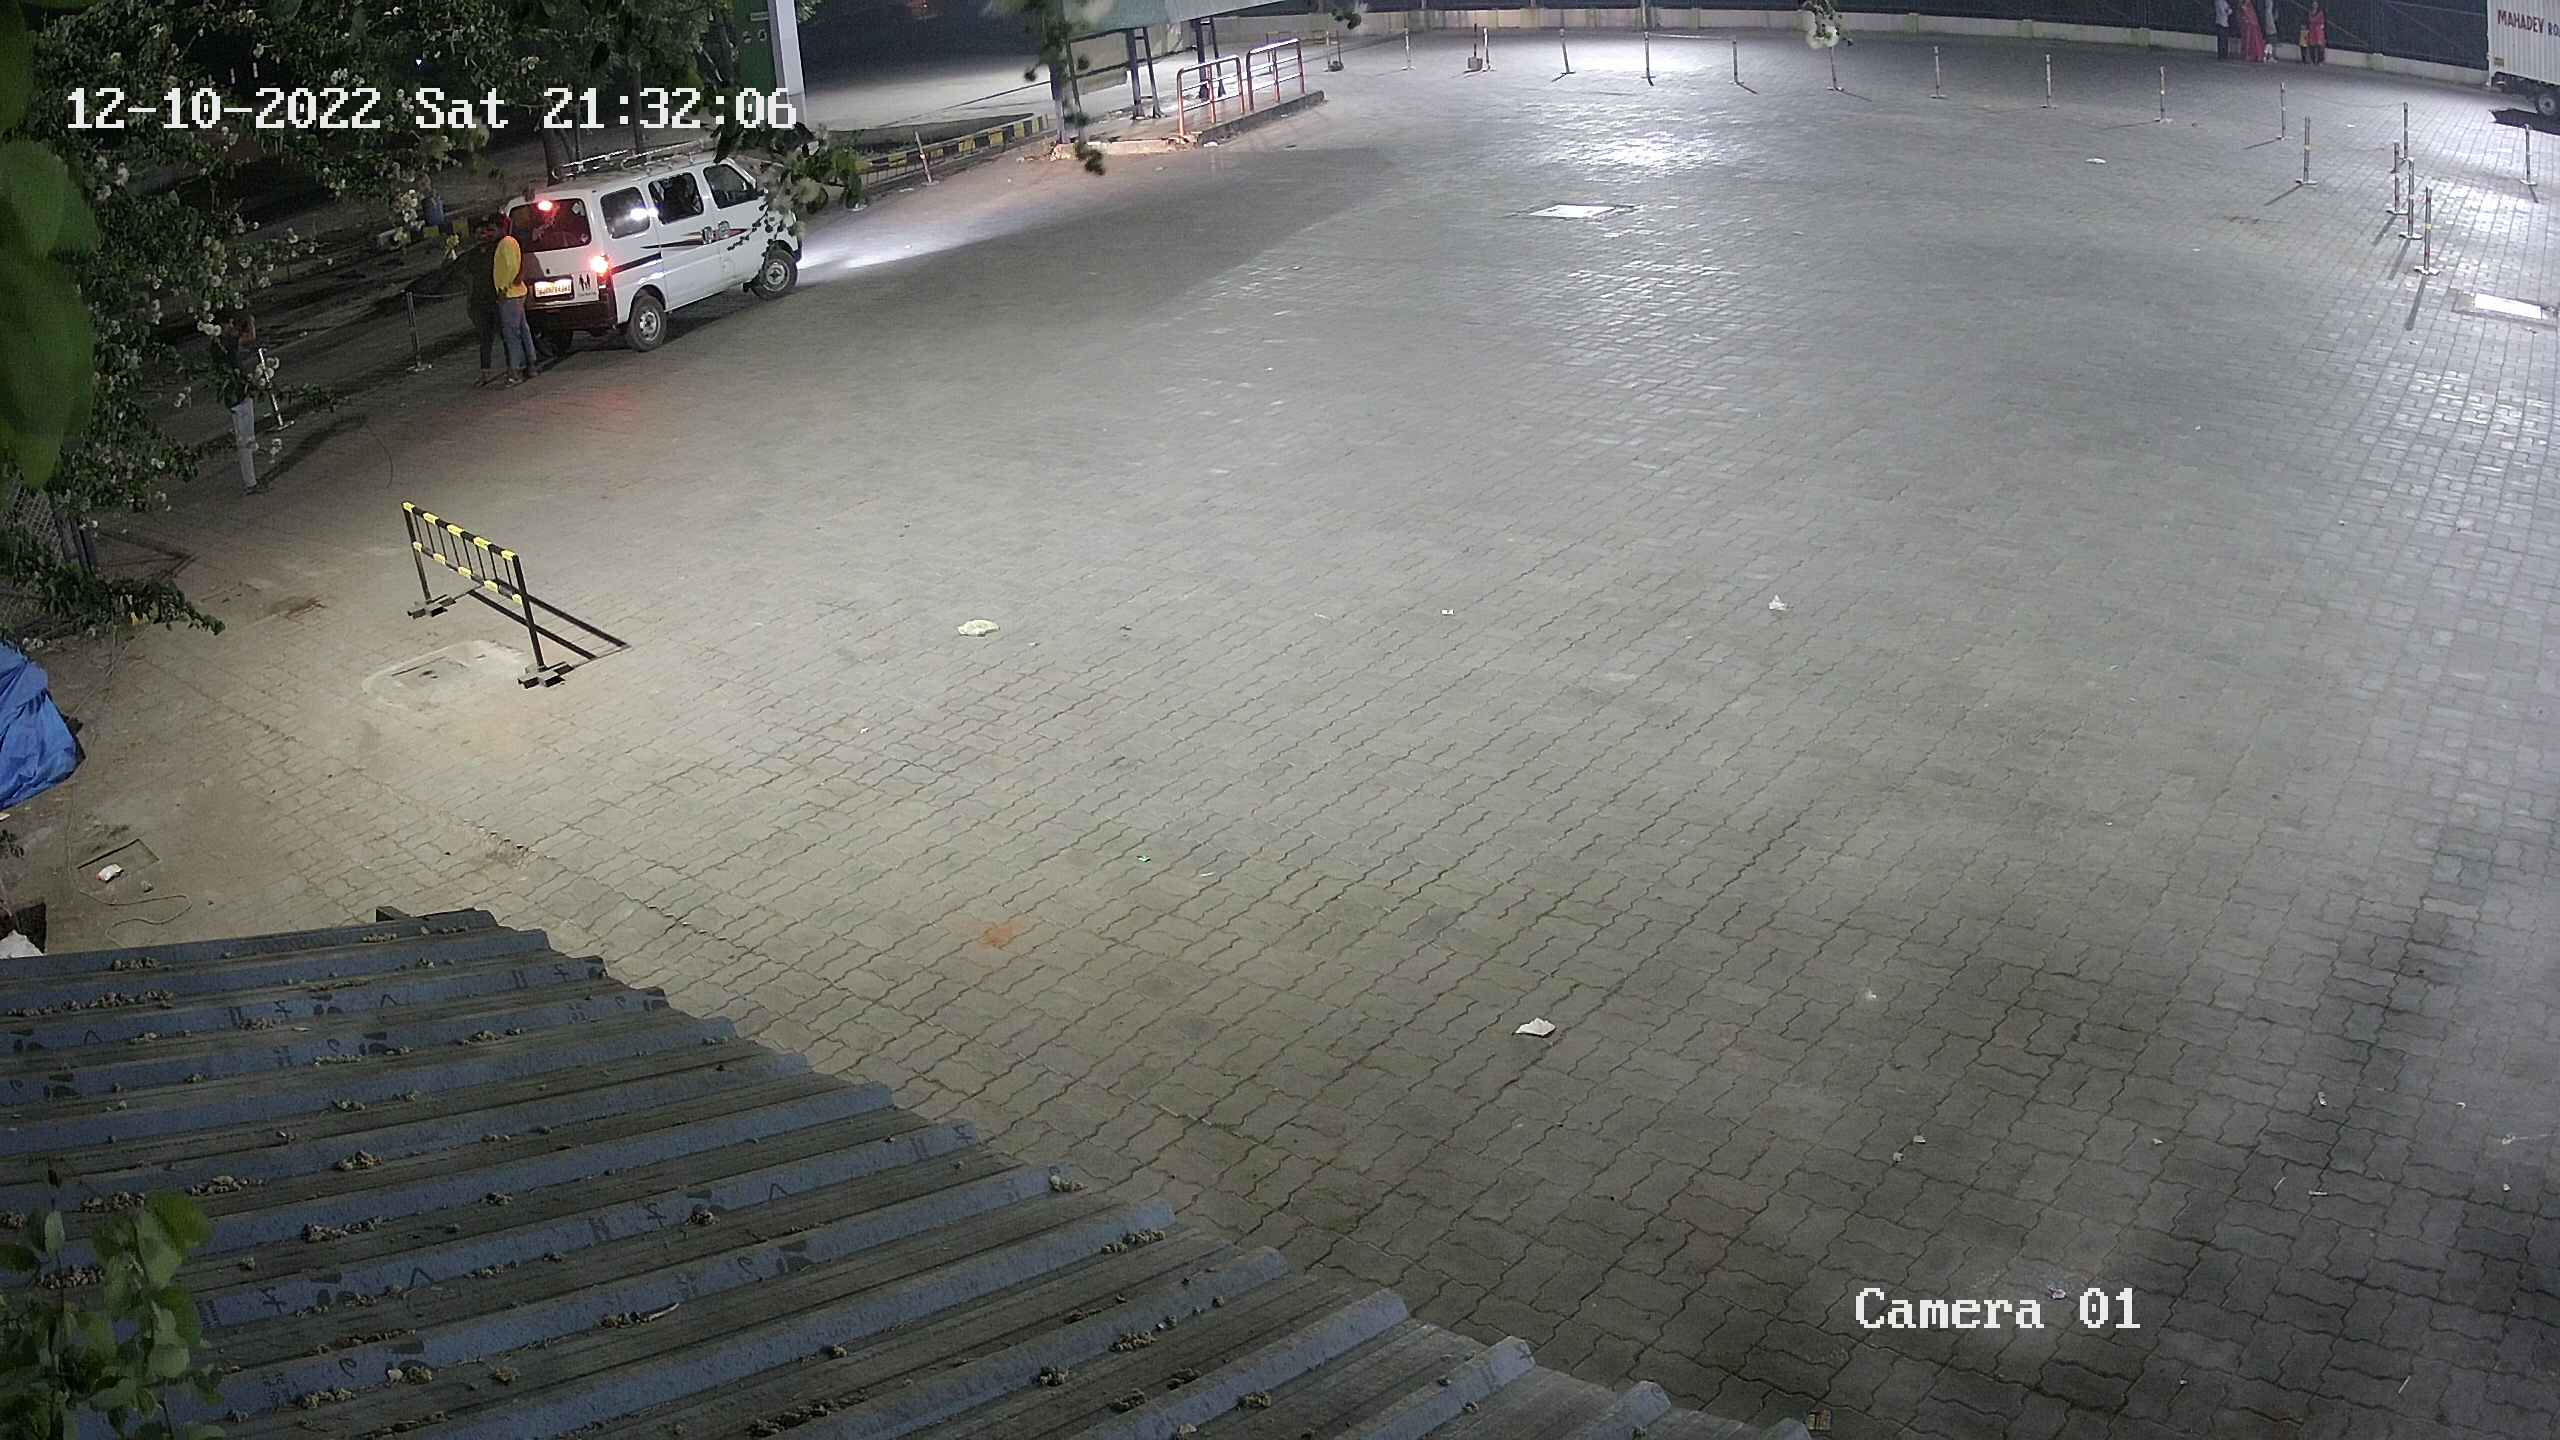Car: (471, 128, 823, 366)
HMV: (2460, 2, 2558, 155)
